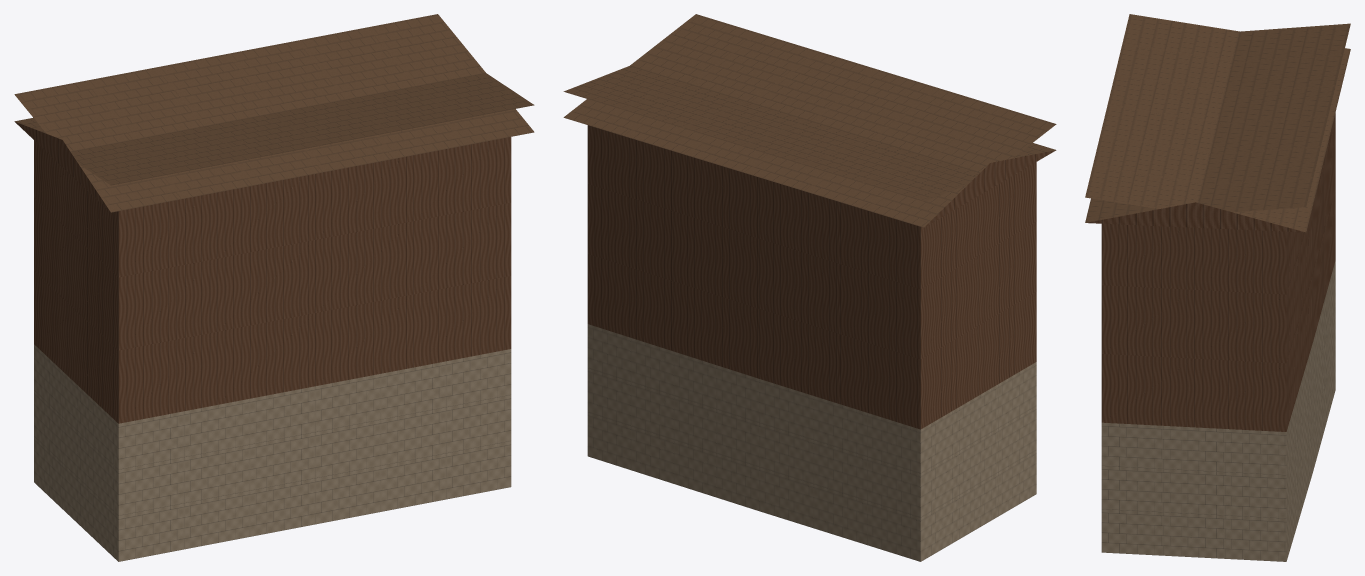
File: bld_c39_43_226.gltf
3 renders of one model, left to right at view 1: azimuth 30°, elevation 25°; view 2: azimuth 150°, elevation 25°; view 3: azimuth 270°, elevation 25°, orthographic. The views are drawn at different scales.
Parts seen in each view (by area): view 1: bld_c39_43_226; view 2: bld_c39_43_226; view 3: bld_c39_43_226.
Boxes of the visible parts, bbox=[...] form: bld_c39_43_226: bbox=[14, 14, 534, 561]; bld_c39_43_226: bbox=[563, 14, 1056, 561]; bld_c39_43_226: bbox=[1085, 14, 1350, 561].
Size of the model in its own units: 16.26 by 14.2 by 9.46.
Materials: 4 (4 with a texture image).
